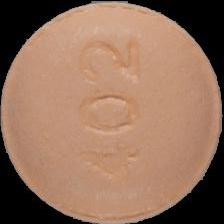63459-402: (0, 0, 224, 224)
